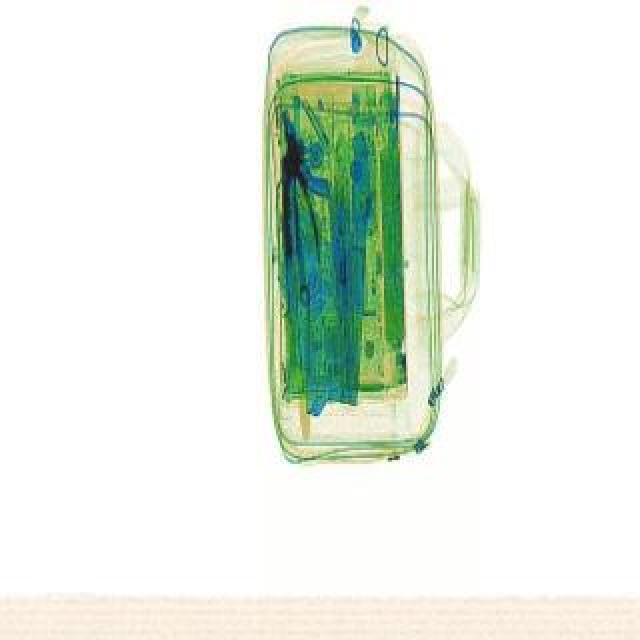gun: (278, 106, 330, 198)
knife: (338, 128, 370, 406)
wrench: (270, 122, 322, 262)
